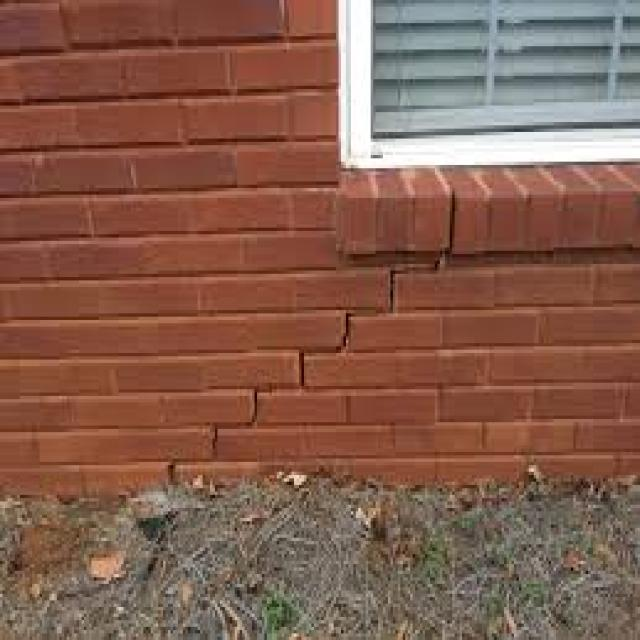Crack: (158, 191, 455, 485)
